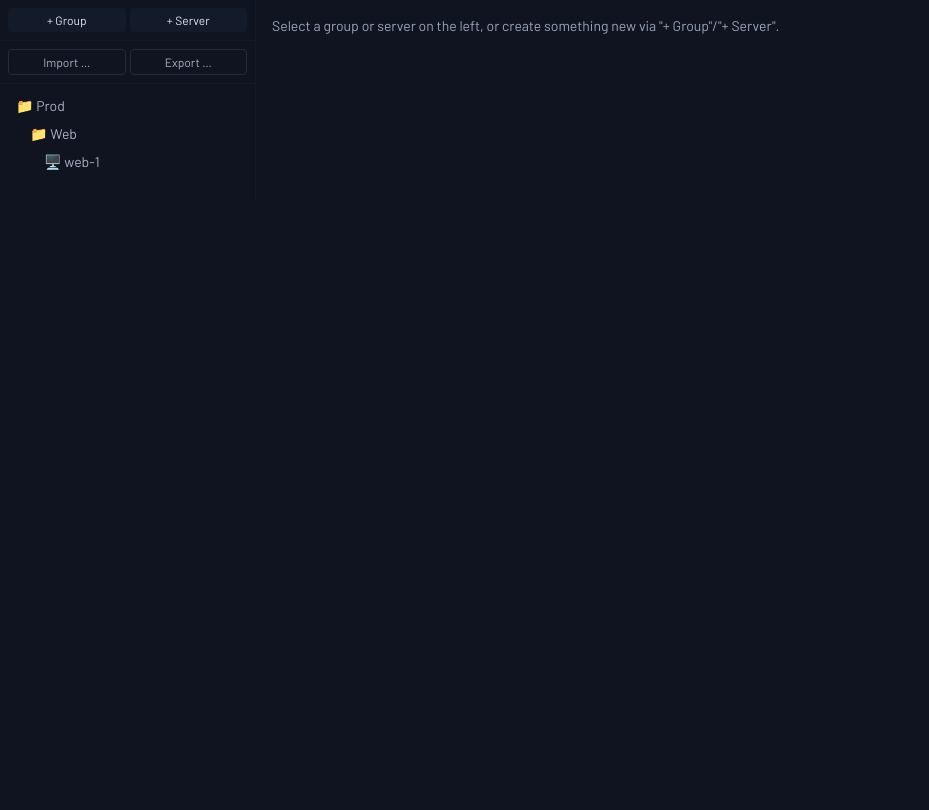
Test: ManagementView: new items in the current folder (issue #49) › + Server and + Group with nothing selected preselect no folder
Expected: the button "📁 Web" is shown, [8,120,247,148]
Click the button "+ Server". click: (188, 20)
box: [130,8,247,32]
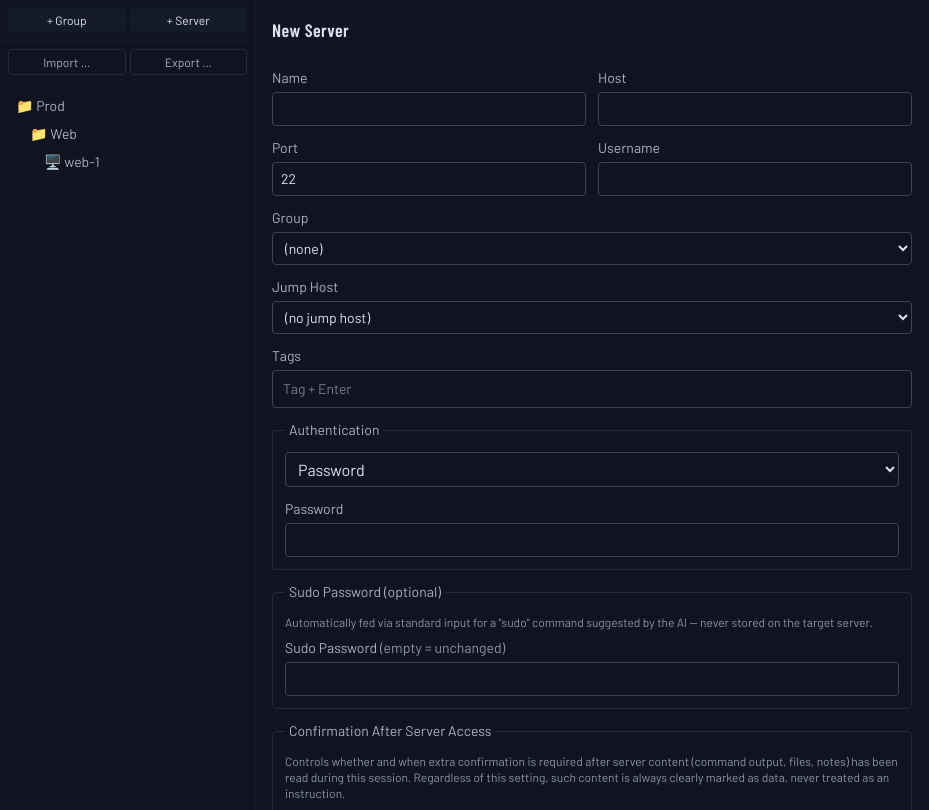
Result: the heading "New Server" is shown at [272,19,349,41]
Result: the dropdown labelled "Group" shows "(none)" at [272,232,912,265]
Click the button "+ Group". click: (67, 20)
box: [8,8,126,32]
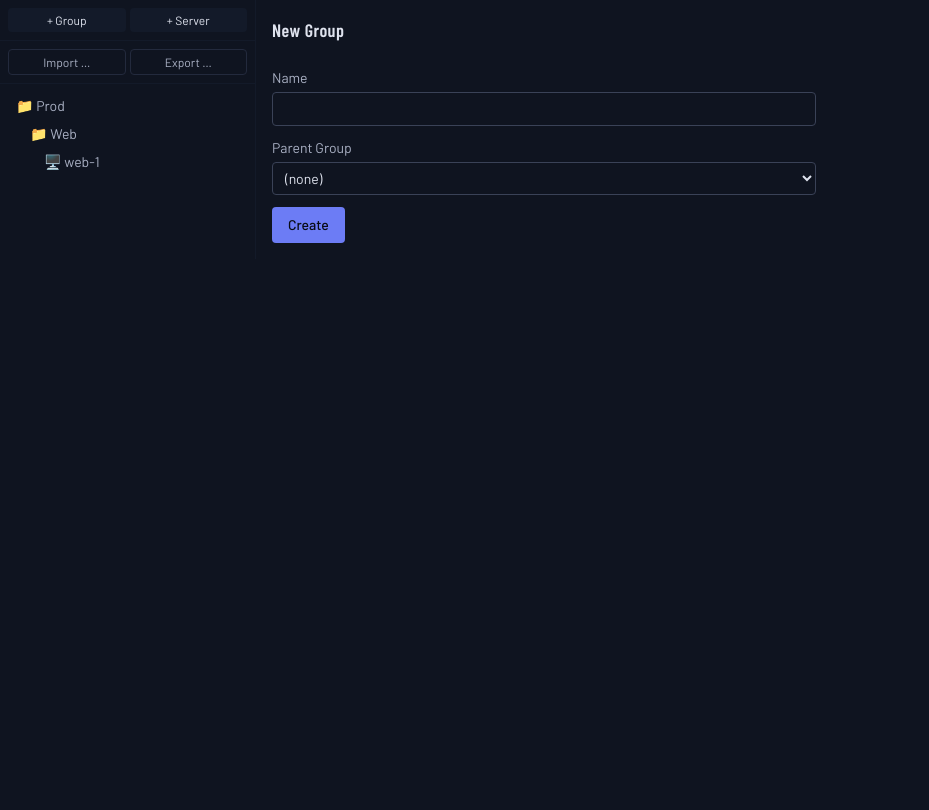
Result: the dropdown shows "(none)" at [272,162,816,195]
Result: the heading "New Group" is shown at [272,19,344,41]
